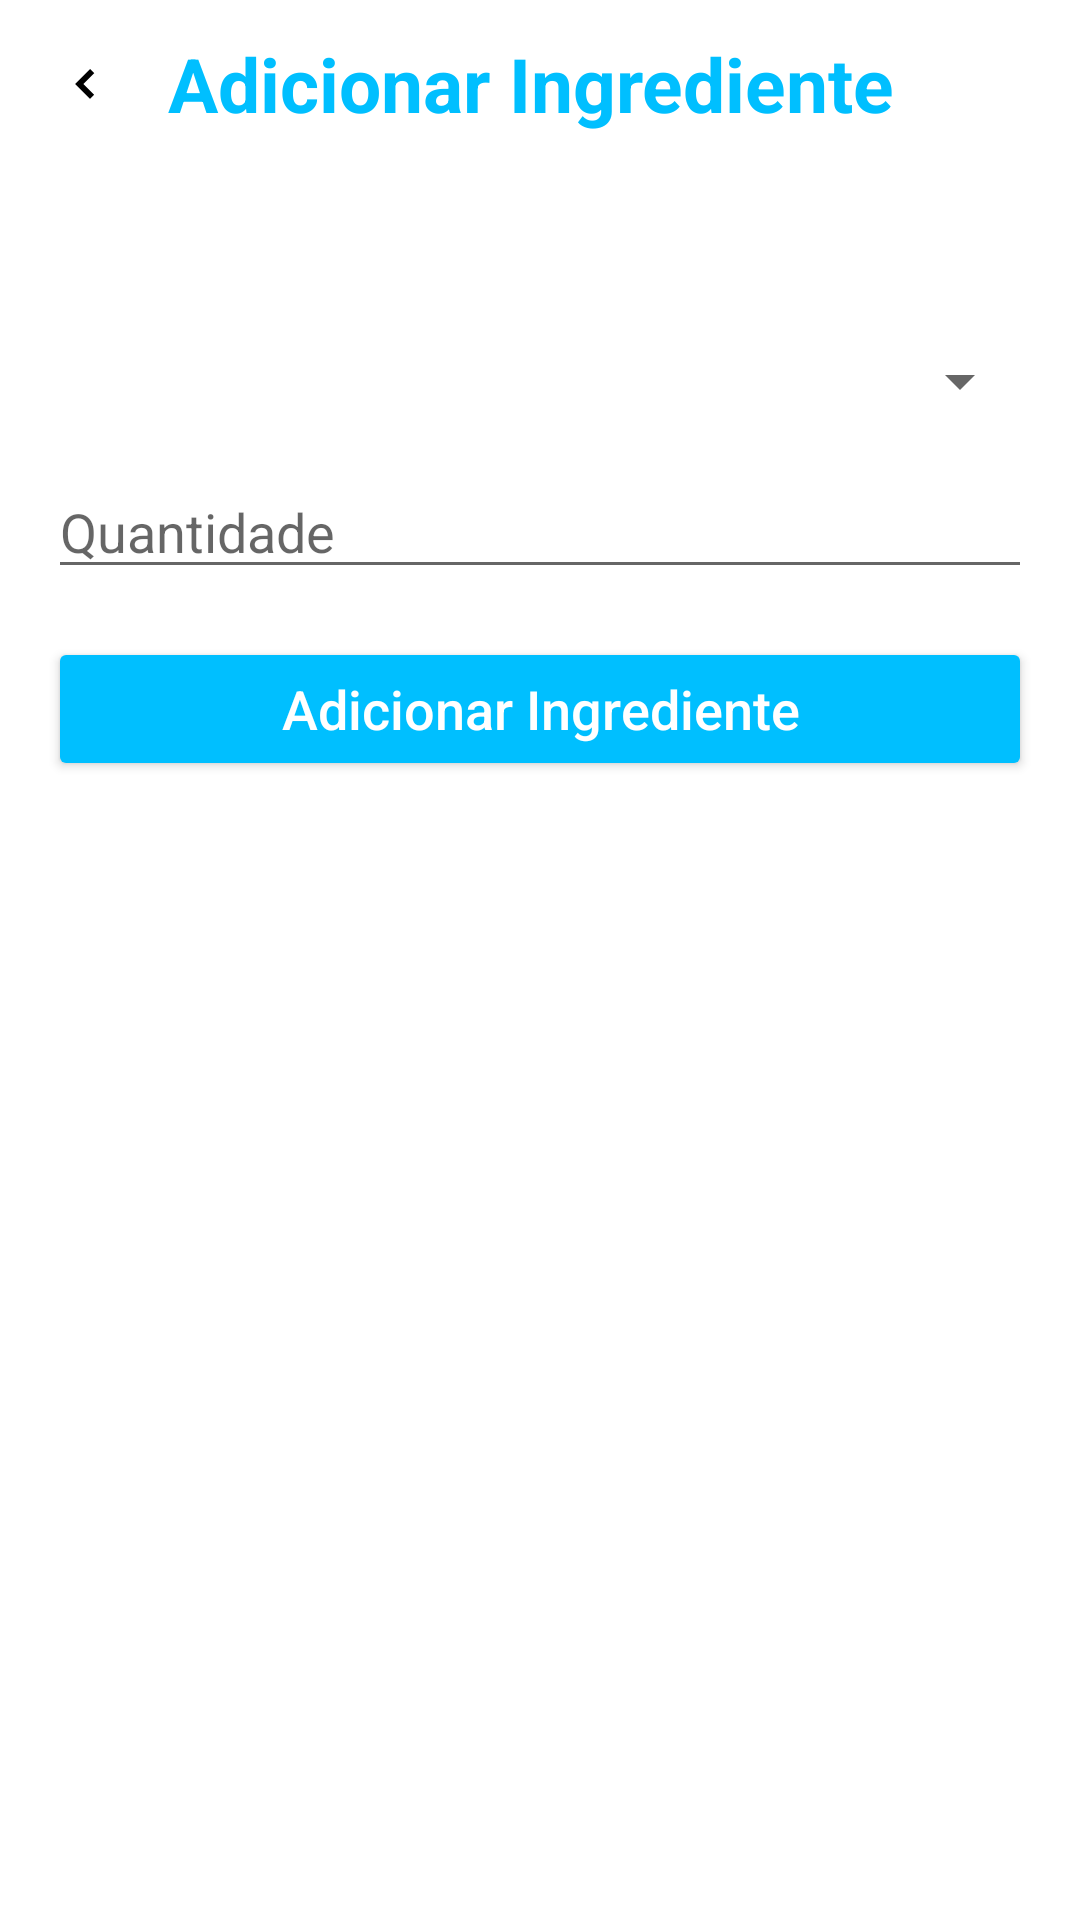

Where icons sit on this 1080w x 1920h app screen, as {"x1": x1, "y1": y1, "x2": x2, "y2": y2}:
Voltar: {"x1": 75, "y1": 69, "x2": 94, "y2": 99}
